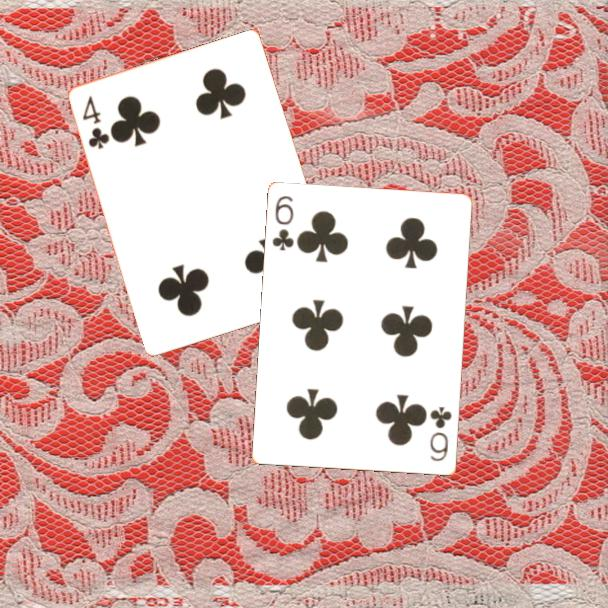c04: (79, 92, 112, 152)
c06: (269, 192, 297, 254), (427, 404, 455, 464)
